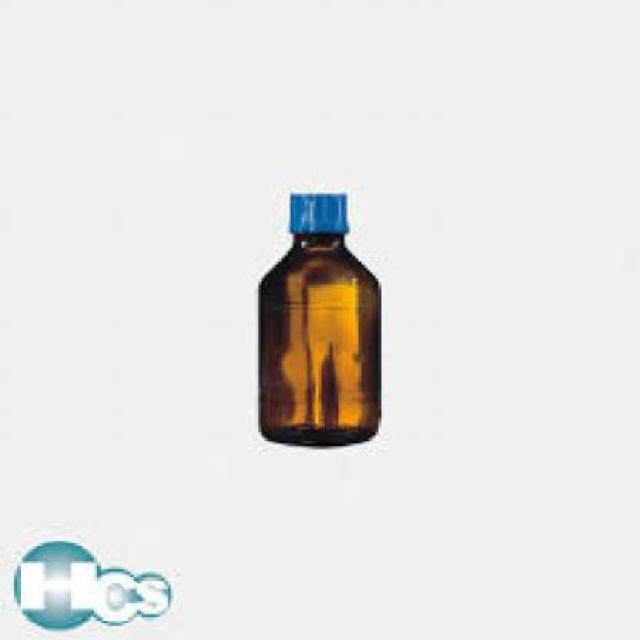kaca: (255, 231, 378, 446)
